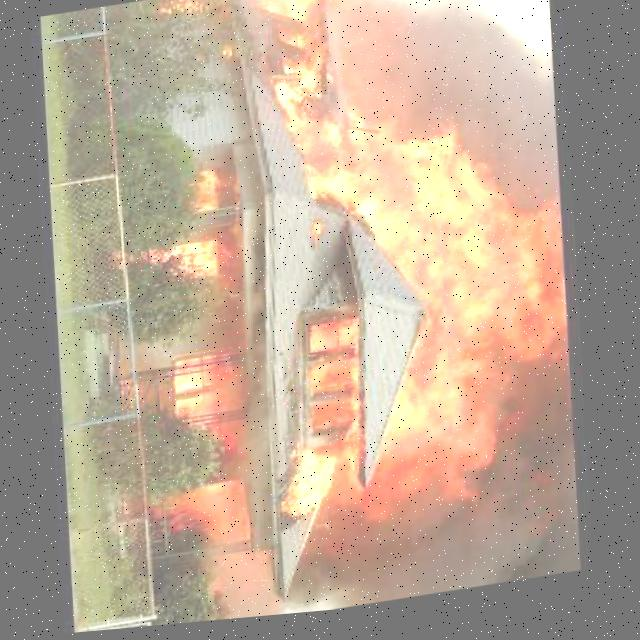Fire: (111, 0, 586, 568)
